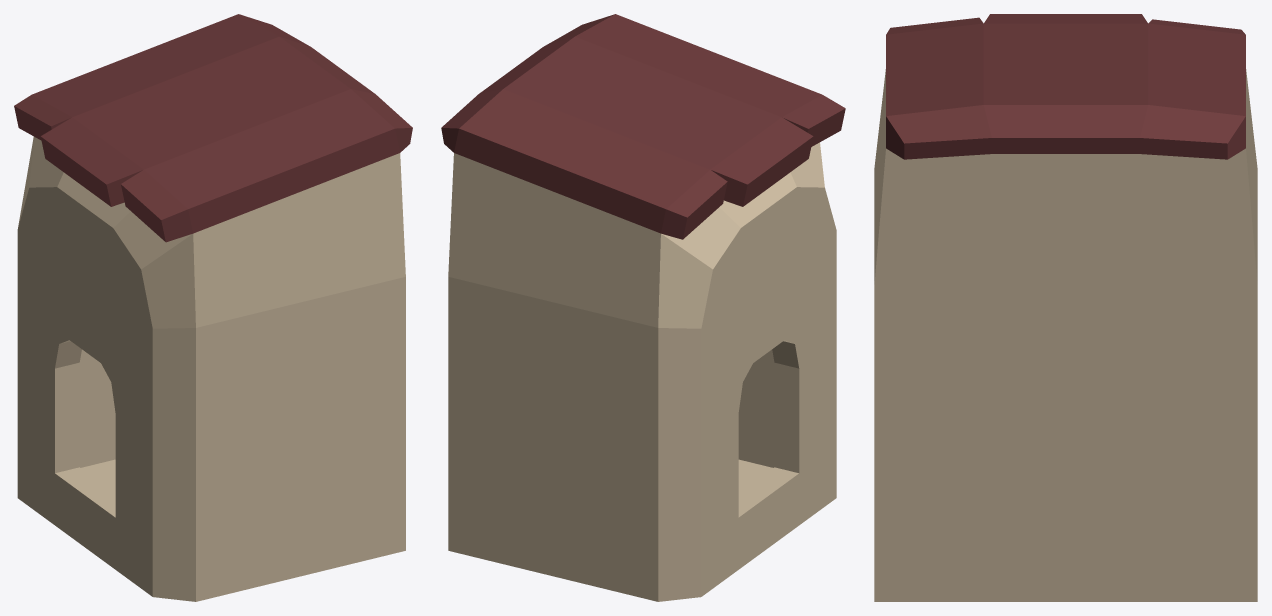
File: LightSandStoneDecorationSmallFurnace1.fbx
The picture shows the model from 3 angles, left to right: view 1: azimuth 30°, elevation 25°; view 2: azimuth 150°, elevation 25°; view 3: azimuth 270°, elevation 25°; orthographic projection. The views are drawn at different scales.
Visible parts, largest first — view 1: LightSandStoneDecorationSmallFurnace1; view 2: LightSandStoneDecorationSmallFurnace1; view 3: LightSandStoneDecorationSmallFurnace1.
Boxes of the visible parts, x1,y1,x2,y2 form: LightSandStoneDecorationSmallFurnace1: (14, 14, 412, 601); LightSandStoneDecorationSmallFurnace1: (441, 14, 845, 601); LightSandStoneDecorationSmallFurnace1: (874, 14, 1257, 601).
Size of the model in its own units: 310 by 470 by 332.
